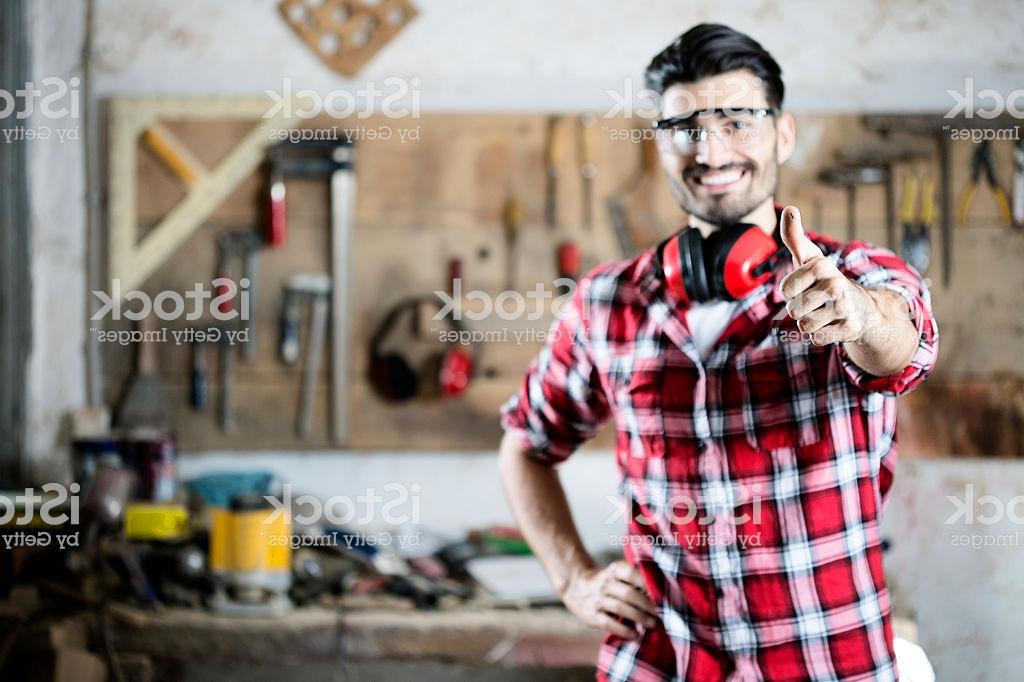thumbsup: (775, 204, 861, 349)
